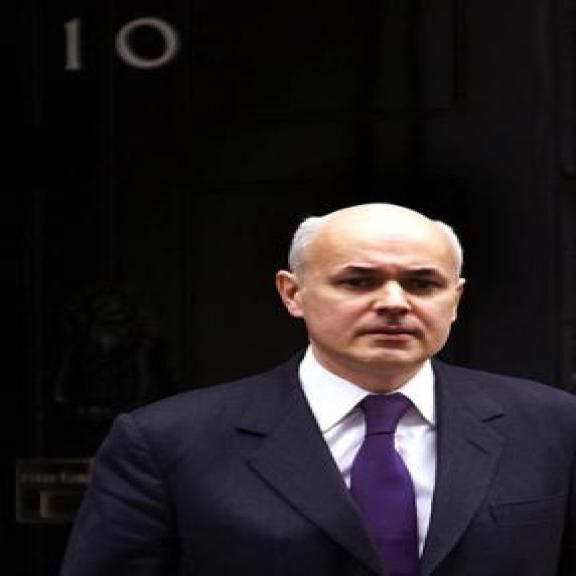face: (276, 237, 469, 375)
